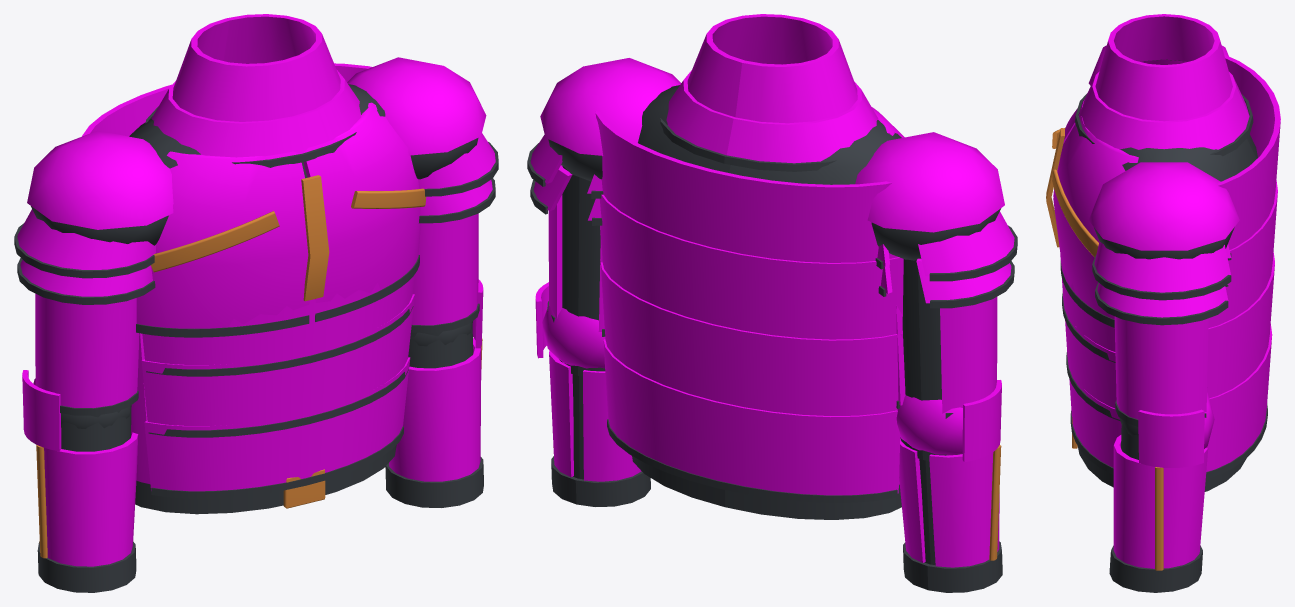
The model's file is porte_armure3_plastron.glb.
3 views of the same model, side by side, from view 1: azimuth 30°, elevation 25°; view 2: azimuth 150°, elevation 25°; view 3: azimuth 270°, elevation 25° (orthographic). The views are drawn at different scales.
Parts seen in each view (by area): view 1: poitrine__plastron_teinte.010, ventre__plastron_teinte.010, avantbras_d__plastron_teinte.010, poitrine__plastron_teinte_sombre.008, bras_d__plastron_teinte.010, avantbras_g__plastron_teinte.010, ventre__plastron_teinte_sombre.008, bras_g__plastron_teinte.010, poitrine__plastron_composite_bande.002, avantbras_d__plastron_teinte_sombre.008, avantbras_g__plastron_teinte_sombre.008, avantbras_d__plastron_composite_bande.002 (+3 smaller); view 2: poitrine__plastron_teinte.010, ventre__plastron_teinte.010, avantbras_d__plastron_teinte.010, poitrine__plastron_teinte_sombre.008, avantbras_g__plastron_teinte.010, ventre__plastron_teinte_sombre.008, bras_d__plastron_teinte.010, bras_g__plastron_teinte_sombre.008, bras_d__plastron_teinte_sombre.008, avantbras_d__plastron_teinte_sombre.008, avantbras_g__plastron_teinte_sombre.008, bras_g__plastron_teinte.010 (+1 smaller); view 3: poitrine__plastron_teinte.010, ventre__plastron_teinte.010, avantbras_g__plastron_teinte.010, bras_g__plastron_teinte.010, poitrine__plastron_teinte_sombre.008, avantbras_g__plastron_teinte_sombre.008, ventre__plastron_teinte_sombre.008, poitrine__plastron_composite_bande.002, avantbras_g__plastron_composite_bande.002.
Boxes of the visible parts, x1=… form: poitrine__plastron_teinte.010: x1=17, y1=14, x2=495, y2=328; ventre__plastron_teinte.010: x1=131, y1=274, x2=414, y2=491; avantbras_d__plastron_teinte.010: x1=22, y1=370, x2=138, y2=566; poitrine__plastron_teinte_sombre.008: x1=14, y1=84, x2=498, y2=337; bras_d__plastron_teinte.010: x1=35, y1=293, x2=139, y2=408; avantbras_g__plastron_teinte.010: x1=389, y1=279, x2=483, y2=481; ventre__plastron_teinte_sombre.008: x1=135, y1=306, x2=413, y2=514; bras_g__plastron_teinte.010: x1=411, y1=213, x2=478, y2=325; poitrine__plastron_composite_bande.002: x1=150, y1=175, x2=426, y2=301; avantbras_d__plastron_teinte_sombre.008: x1=37, y1=405, x2=136, y2=592; avantbras_g__plastron_teinte_sombre.008: x1=385, y1=321, x2=483, y2=507; avantbras_d__plastron_composite_bande.002: x1=36, y1=445, x2=47, y2=558; poitrine__plastron_teinte.010: x1=530, y1=14, x2=1014, y2=339; ventre__plastron_teinte.010: x1=600, y1=260, x2=902, y2=495; avantbras_d__plastron_teinte.010: x1=896, y1=380, x2=1001, y2=567; poitrine__plastron_teinte_sombre.008: x1=527, y1=85, x2=1017, y2=308; avantbras_g__plastron_teinte.010: x1=535, y1=282, x2=641, y2=481; ventre__plastron_teinte_sombre.008: x1=607, y1=419, x2=901, y2=519; bras_d__plastron_teinte.010: x1=896, y1=297, x2=997, y2=413; bras_g__plastron_teinte_sombre.008: x1=547, y1=164, x2=605, y2=376; bras_d__plastron_teinte_sombre.008: x1=896, y1=259, x2=962, y2=460; avantbras_d__plastron_teinte_sombre.008: x1=903, y1=459, x2=1002, y2=592; avantbras_g__plastron_teinte_sombre.008: x1=551, y1=374, x2=650, y2=506; bras_g__plastron_teinte.010: x1=548, y1=195, x2=604, y2=331; poitrine__plastron_teinte.010: x1=1053, y1=14, x2=1280, y2=328; ventre__plastron_teinte.010: x1=1060, y1=252, x2=1274, y2=471; avantbras_g__plastron_teinte.010: x1=1113, y1=392, x2=1214, y2=568; bras_g__plastron_teinte.010: x1=1114, y1=316, x2=1208, y2=419; poitrine__plastron_teinte_sombre.008: x1=1060, y1=59, x2=1257, y2=327; avantbras_g__plastron_teinte_sombre.008: x1=1109, y1=418, x2=1202, y2=592; ventre__plastron_teinte_sombre.008: x1=1062, y1=293, x2=1267, y2=491; poitrine__plastron_composite_bande.002: x1=1046, y1=128, x2=1098, y2=257; avantbras_g__plastron_composite_bande.002: x1=1155, y1=467, x2=1163, y2=570.
Bounding box in the file's own units: 0.6939 × 0.695 × 0.326.
